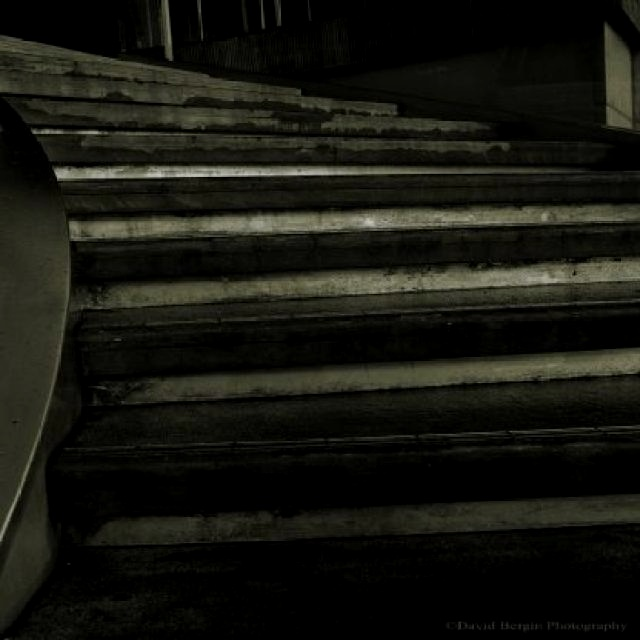stair: (0, 32, 640, 640)
